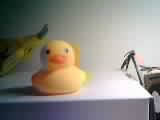duck: (33, 35, 91, 95)
